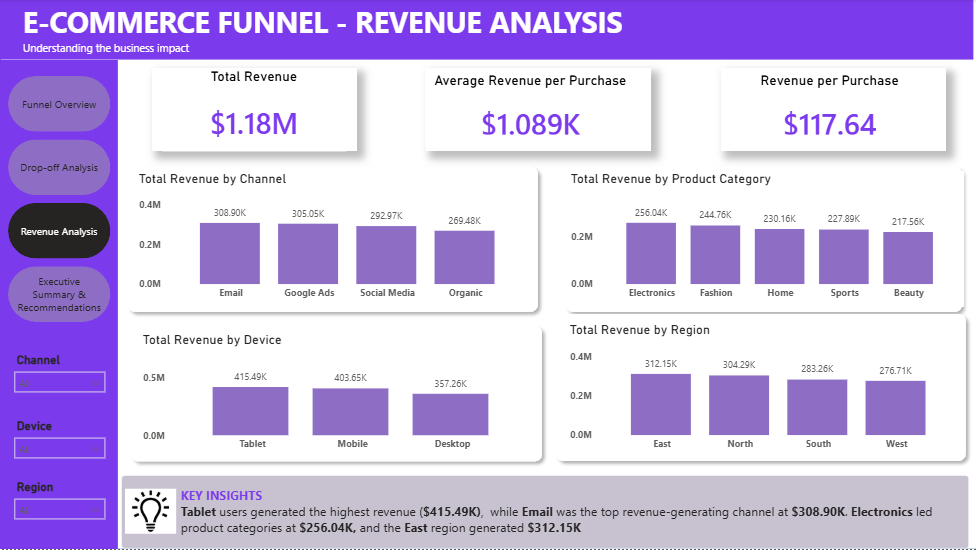

Layout of this report page (visuals, bound fields, positions):
{"tool":"powerbi","page":{"name":"Revenue Analysis","canvas":[1280,720],"ordinal":2},"visuals":[{"type":"shape","box":[0,0,1280,720.6],"z":0},{"type":"shape","box":[0,79.2,154.1,640.8],"z":1000},{"type":"shape","title":"E-Commerce  Conversion Funnel Analysis","box":[0,0,1274.4,79.2],"z":2000},{"type":"shape","box":[198.7,90.7,267.8,109.4],"z":3000},{"type":"shape","box":[558.1,90.8,294.5,108.7],"z":4000},{"type":"shape","box":[944.2,90.8,294.5,108.7],"z":5000},{"type":"cardVisual","title":"Total Sessions","fields":{"Data":["funnel_analysis_data.Total Sessions"]},"box":[510.6,249.1,203,99.4],"z":6000},{"type":"cardVisual","title":"Average Revenue  per Purchase","fields":{"Data":["funnel_analysis_data.Average Revenue per Purchase"]},"box":[555.8,95,276.5,99.4],"z":7000},{"type":"cardVisual","title":"Total Revenue","fields":{"Data":["funnel_analysis_data.Total Revenue"]},"box":[211.7,90.7,240.9,108.7],"z":8000},{"type":"shape","box":[158.3,210.6,554.7,207.8],"z":9000},{"type":"shape","box":[732.2,210.6,536.8,207.8],"z":10000},{"type":"shape","box":[158.4,623.5,1110.2,96.5],"z":11000},{"type":"textbox","title":"KEY FINDING","box":[231.2,633.1,1024,82.6],"z":12000},{"type":"textbox","box":[24.8,0,885,79.8],"z":13000},{"type":"cardVisual","title":"Revenue per Purchase","fields":{"Data":["funnel_analysis_data.Revenue per Session"]},"box":[960.5,95,250.6,99.4],"z":14000},{"type":"shape","box":[163.8,418.4,554.7,195.4],"z":15000},{"type":"shape","box":[718.5,403.3,554.7,210.6],"z":16000},{"type":"clusteredColumnChart","fields":{"Category":["funnel_analysis_data.Channel"],"Y":["funnel_analysis_data.Total Revenue"]},"box":[176.2,225.7,520,178],"z":17000},{"type":"clusteredColumnChart","title":"Total Revenue by Device","fields":{"Y":["funnel_analysis_data.Total Revenue"],"Category":["funnel_analysis_data.Device"]},"box":[181.7,436.3,520.3,165.2],"z":18000},{"type":"clusteredColumnChart","title":"Total Revenue by Product Category","fields":{"Y":["funnel_analysis_data.Total Revenue"],"Category":["funnel_analysis_data.Product_Category"]},"box":[741.8,225.7,520,178],"z":19000},{"type":"clusteredColumnChart","title":"Total Revenue by Region","fields":{"Y":["funnel_analysis_data.Total Revenue"],"Category":["funnel_analysis_data.Region"]},"box":[740.5,422.5,520,178],"z":20000},{"type":"image","box":[163.8,627.6,67.4,86.7],"z":21000},{"type":"slicer","fields":{"Values":["funnel_analysis_data.Channel"]},"box":[7.2,456.5,141.1,59],"z":22000},{"type":"slicer","fields":{"Values":["funnel_analysis_data.Device"]},"box":[7.2,542.9,141.1,59],"z":23000},{"type":"slicer","fields":{"Values":["funnel_analysis_data.Region"]},"box":[7.2,623.5,141.1,59],"z":24000},{"type":"pageNavigator","box":[11,100.5,134.9,322.1],"z":25000}]}

Visuals, with their boxes in screenshot pixels (x1, y1, x2, y2), scaled from the page's 1280x720 canvas onto the 976x550 screenshot:
shape: <box>0,0,975,549</box>
shape: <box>0,60,118,549</box>
"E-Commerce  Conversion Funnel Analysis" shape: <box>0,0,972,60</box>
shape: <box>152,69,356,153</box>
shape: <box>426,69,650,152</box>
shape: <box>720,69,945,152</box>
"Total Sessions" cardVisual: <box>389,190,544,266</box>
"Average Revenue  per Purchase" cardVisual: <box>424,73,635,148</box>
"Total Revenue" cardVisual: <box>161,69,345,152</box>
shape: <box>121,161,544,320</box>
shape: <box>558,161,968,320</box>
shape: <box>121,476,967,549</box>
"KEY FINDING" textbox: <box>176,484,957,547</box>
textbox: <box>19,0,694,61</box>
"Revenue per Purchase" cardVisual: <box>732,73,923,148</box>
shape: <box>125,320,548,469</box>
shape: <box>548,308,971,469</box>
clusteredColumnChart - funnel_analysis_data.Channel x funnel_analysis_data.Total Revenue: <box>134,172,531,308</box>
"Total Revenue by Device" clusteredColumnChart: <box>139,333,535,459</box>
"Total Revenue by Product Category" clusteredColumnChart: <box>566,172,962,308</box>
"Total Revenue by Region" clusteredColumnChart: <box>565,323,961,459</box>
image: <box>125,479,176,546</box>
slicer - funnel_analysis_data.Channel: <box>5,349,113,394</box>
slicer - funnel_analysis_data.Device: <box>5,415,113,460</box>
slicer - funnel_analysis_data.Region: <box>5,476,113,521</box>
pageNavigator: <box>8,77,111,323</box>
